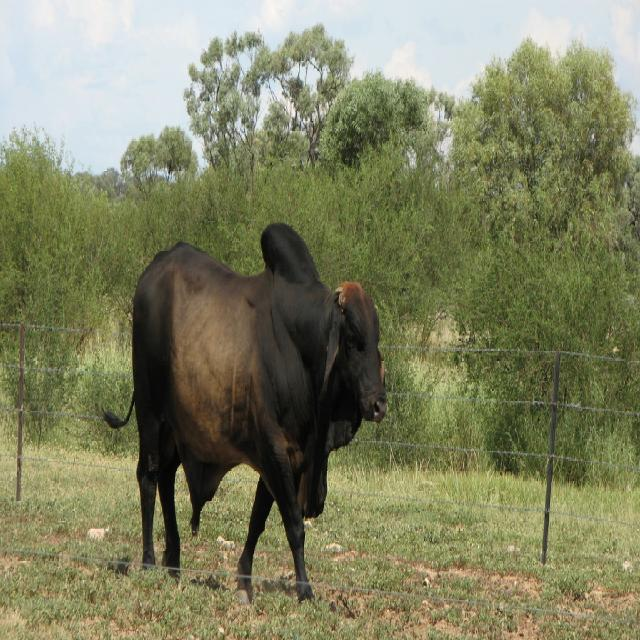Cattle: (99, 222, 387, 604)
